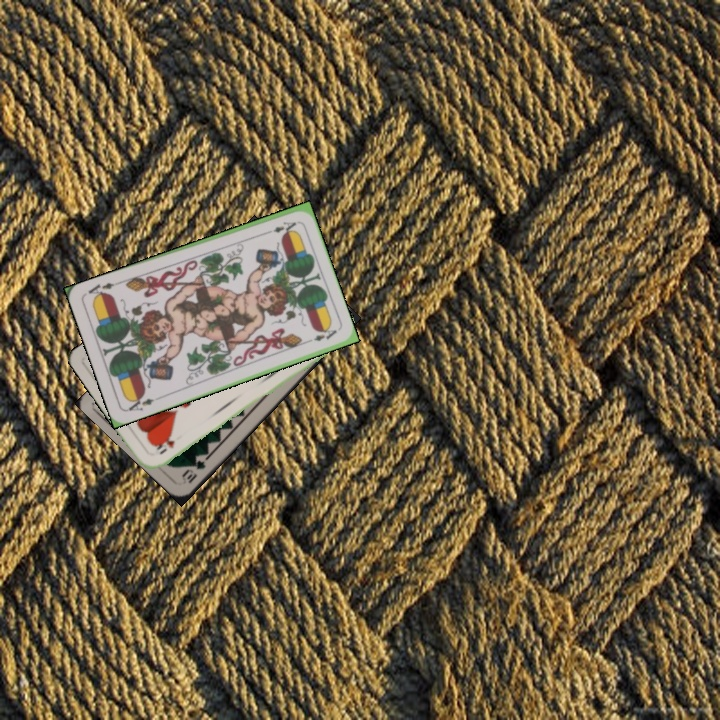EA: (260, 217, 299, 237), (123, 392, 156, 414)
G10: (178, 456, 208, 486)
HO: (152, 435, 178, 457)
